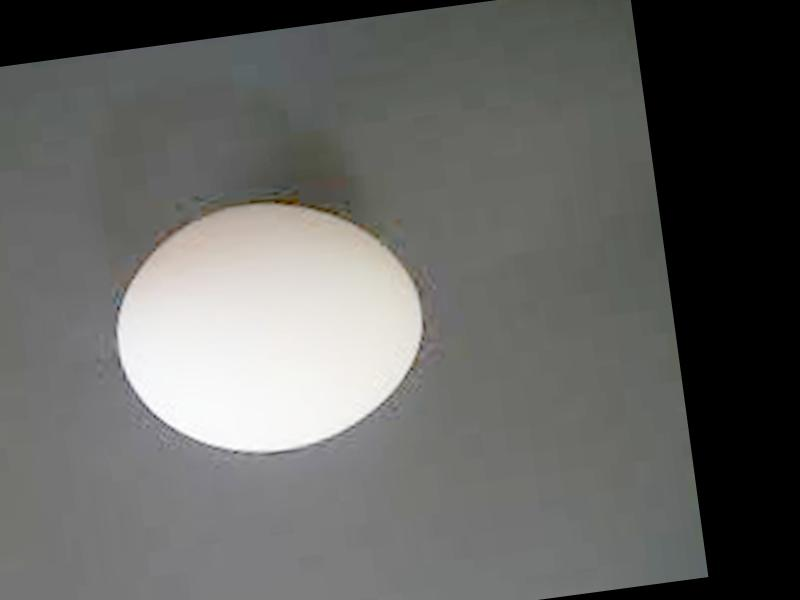Eggs: (110, 186, 439, 468)
